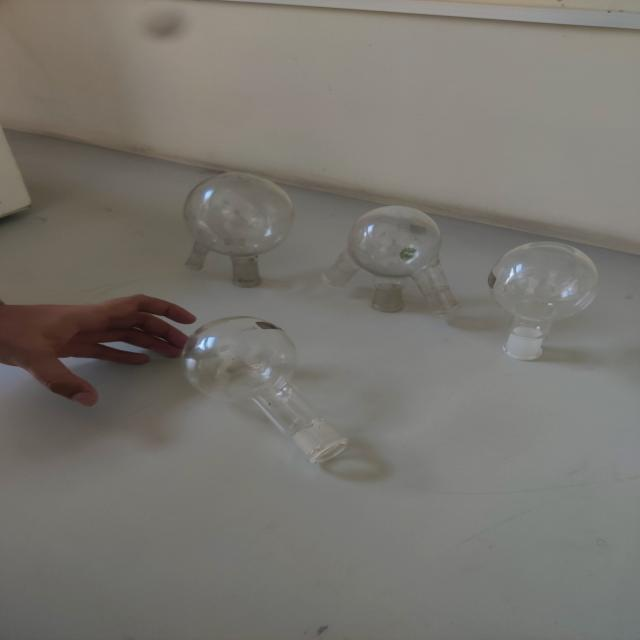Round_Bottom_Flask_Borosilicate_Glass_1_Neck: (154, 304, 367, 482), (470, 224, 611, 385)
Round_Bottom_Flask_Borosilicate_Glass_2_Neck: (156, 162, 308, 297)
Round_Bottom_Flask_Borosilicate_Glass_3_Neck: (323, 185, 471, 328)
